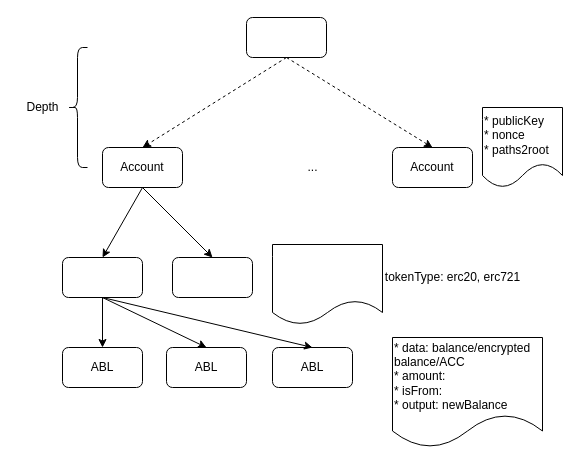
The diagram is 580 pixels wide and 465 high, and some of its shapes have lost their labels. The shapes that lost their labels are listed below. From the top down, each one's centre as x and y in pixels, then its label:
At (x=286, y=37): "Account Root".
At (x=102, y=277): "Token1 Balance".
At (x=212, y=277): "Token2 Balance".
At (x=327, y=284): "* index * tokenType * intermediateRoots".
